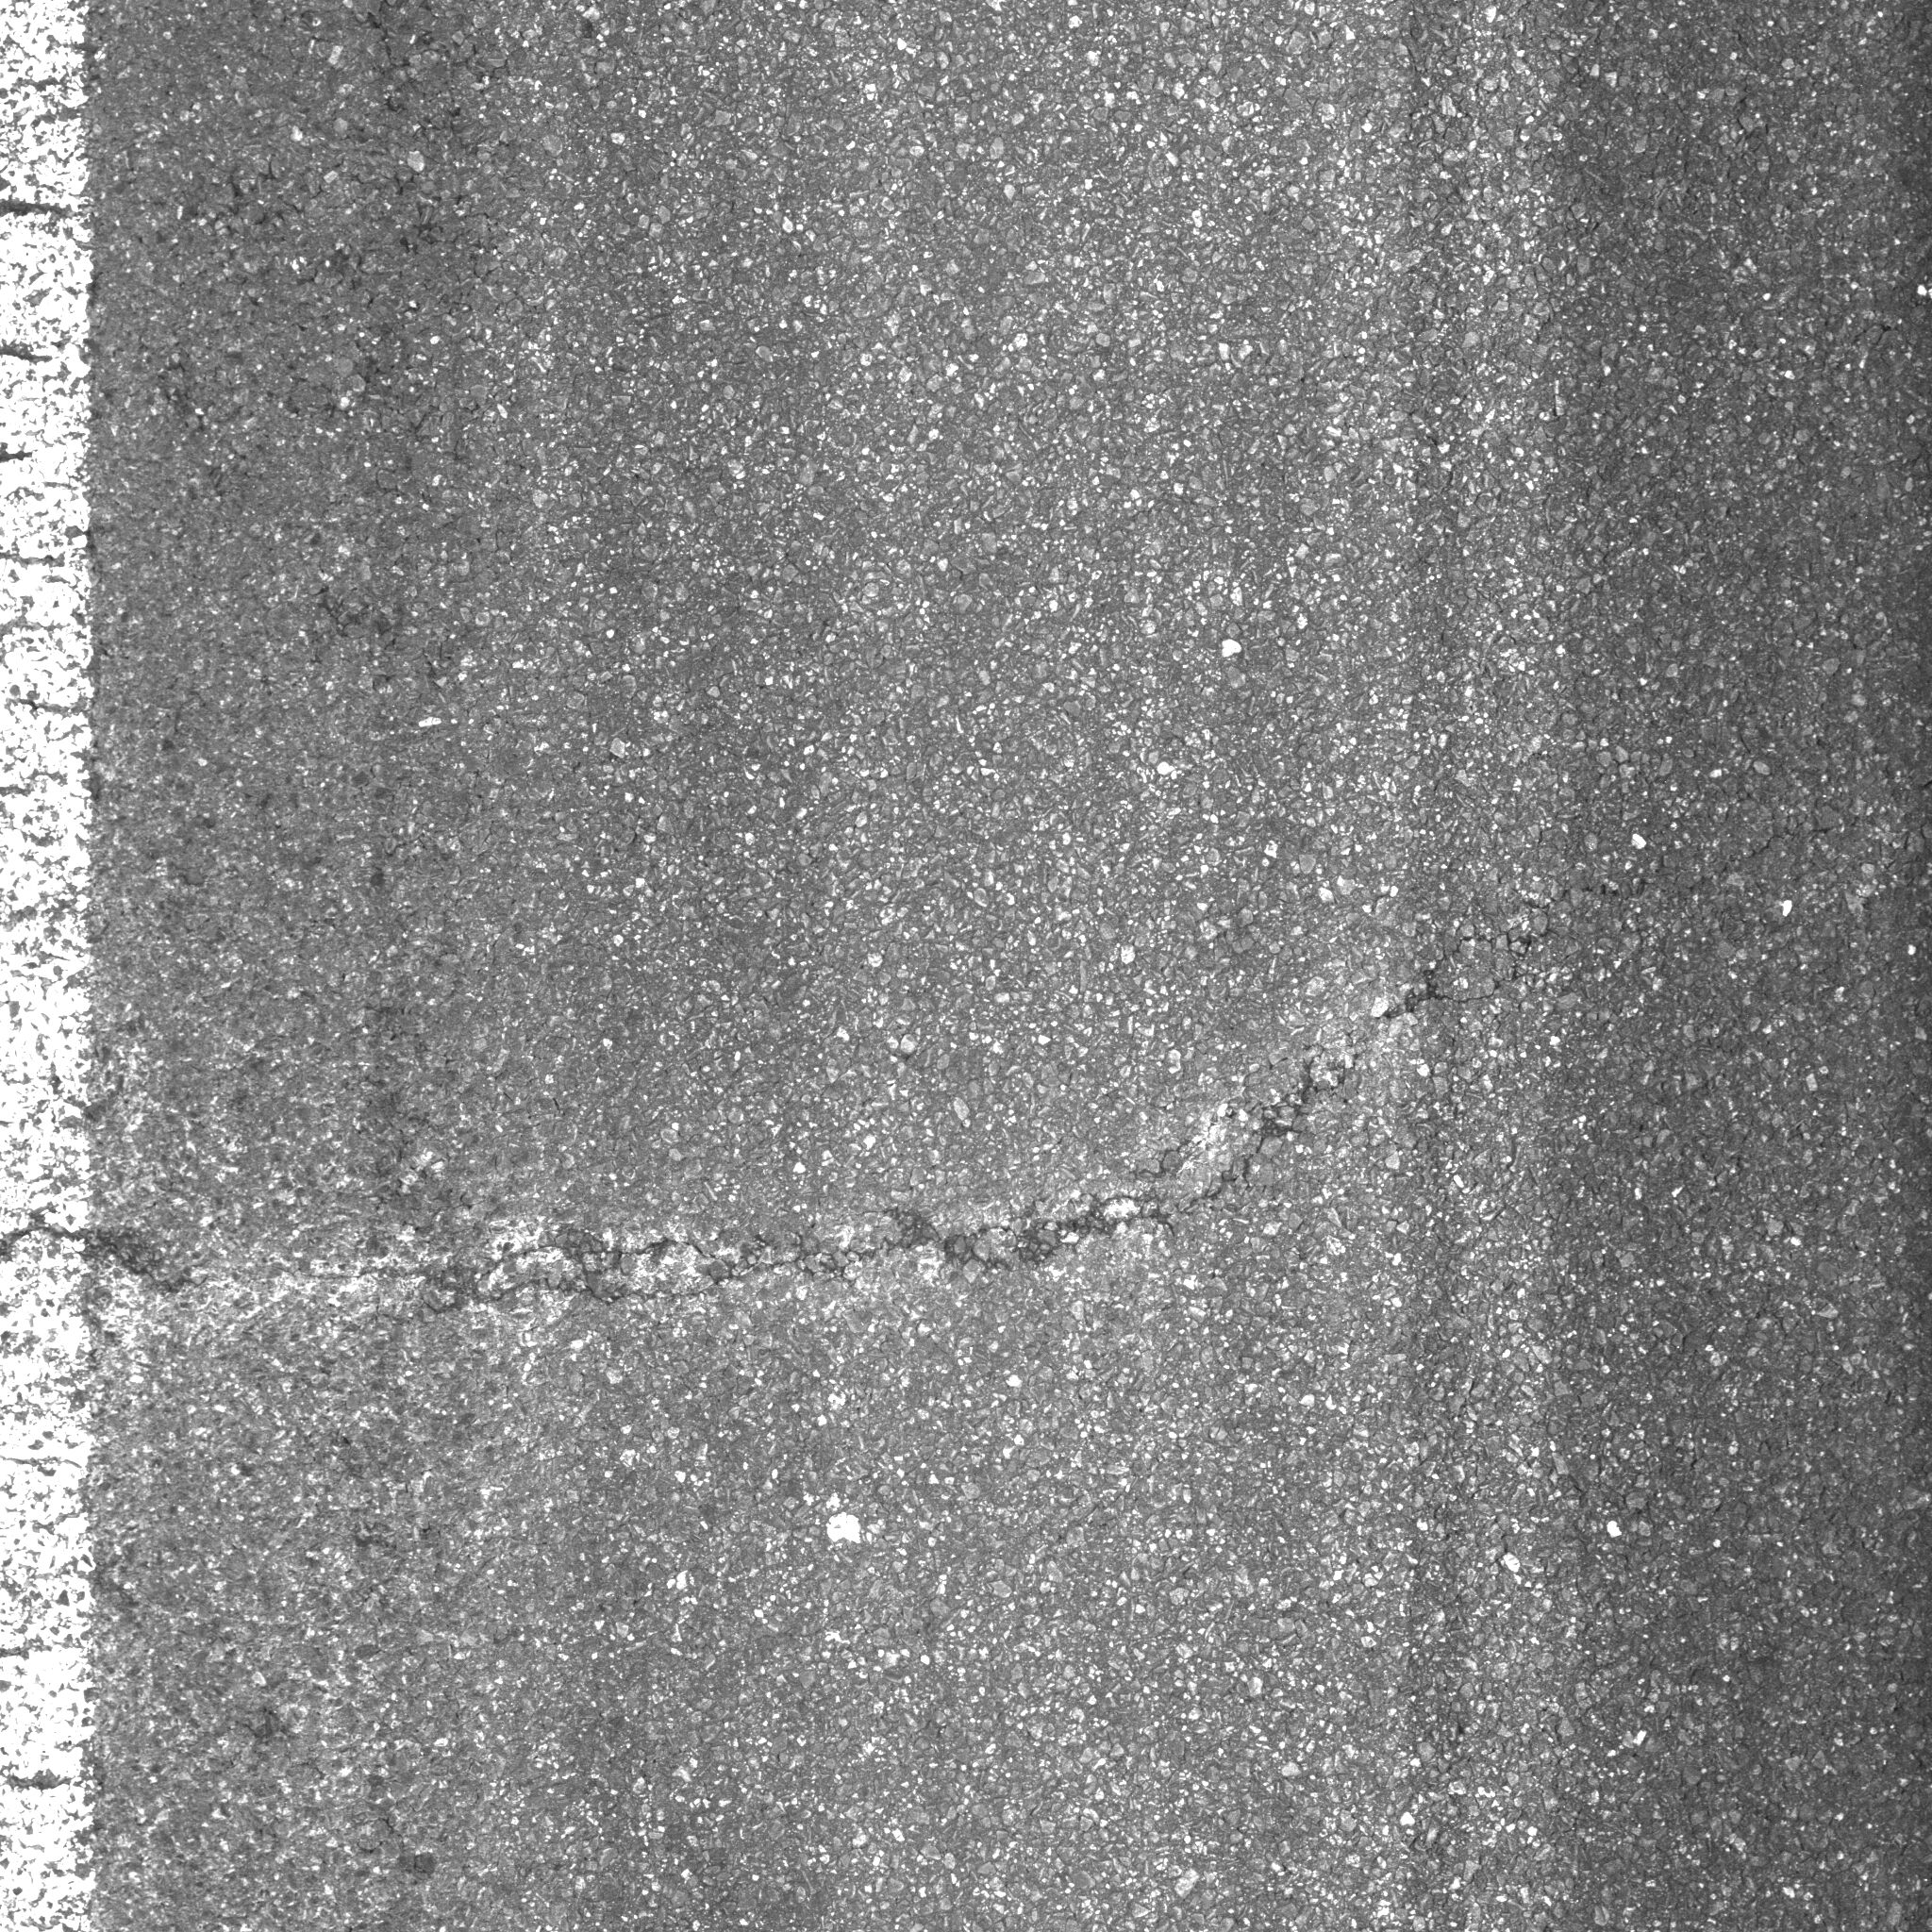transeverse: (23, 778, 1932, 1327)
